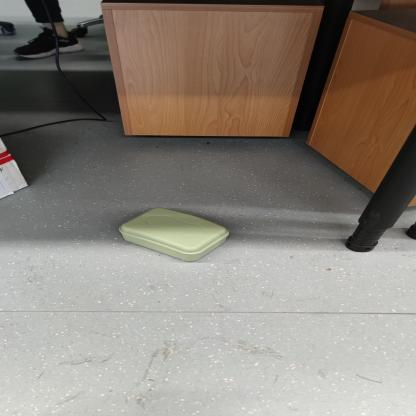box: (96, 198, 246, 274)
